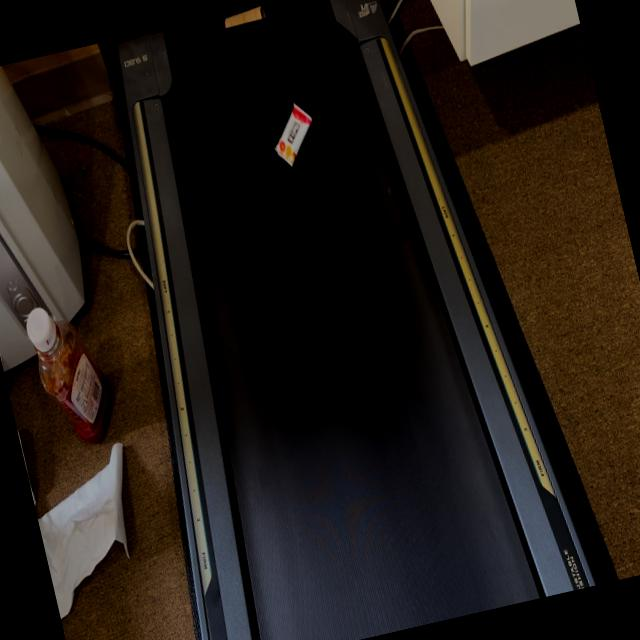Trash: (263, 98, 325, 176), (219, 5, 271, 38)
